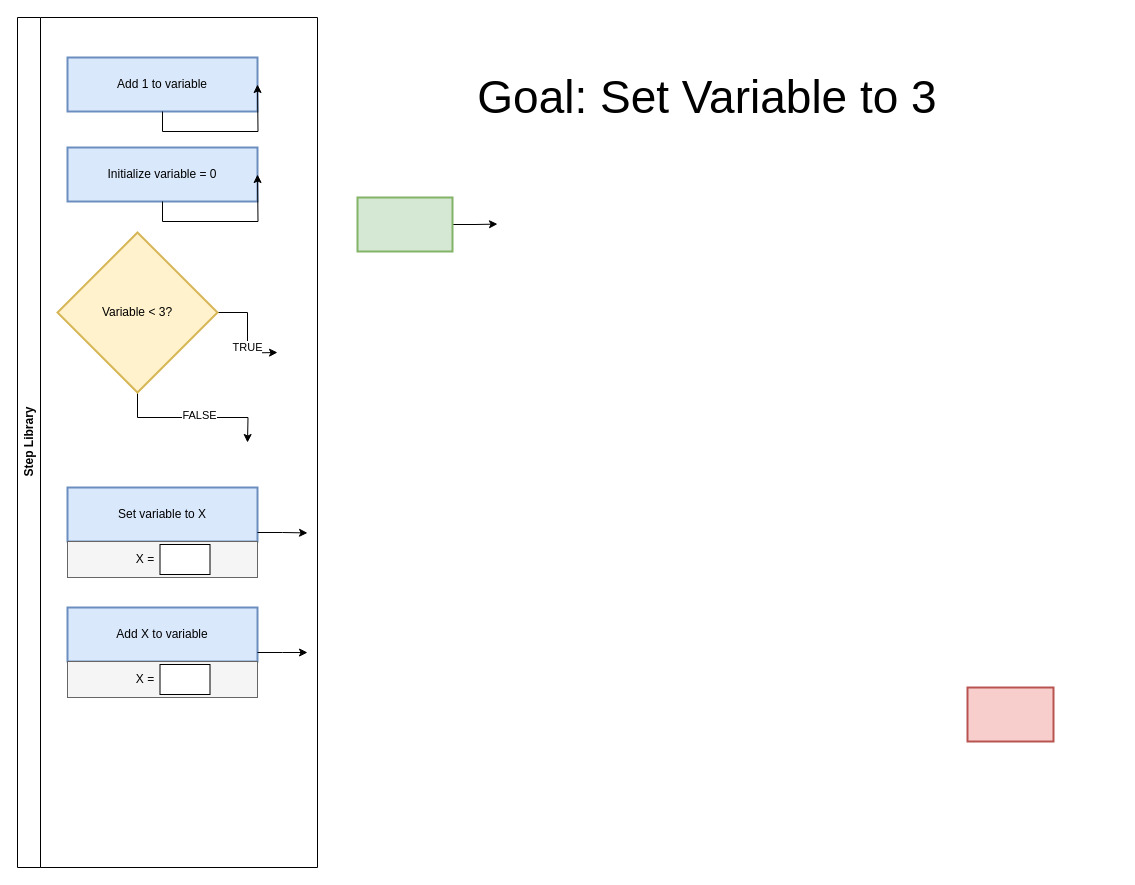
Image size: 1135x885. Some labels were removed from this diagram. Each missing label, with the centre of its shape:
"End" belongs at [1010,714].
"Start" belongs at [404,224].
